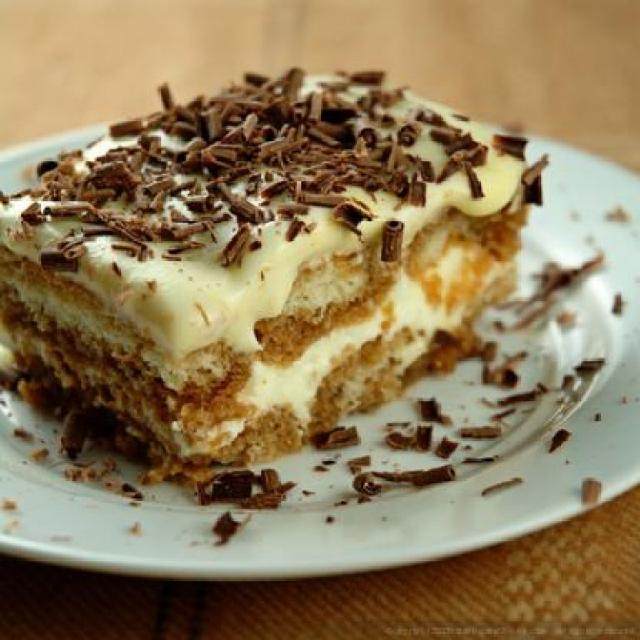Tiramisu: (24, 64, 542, 442)
